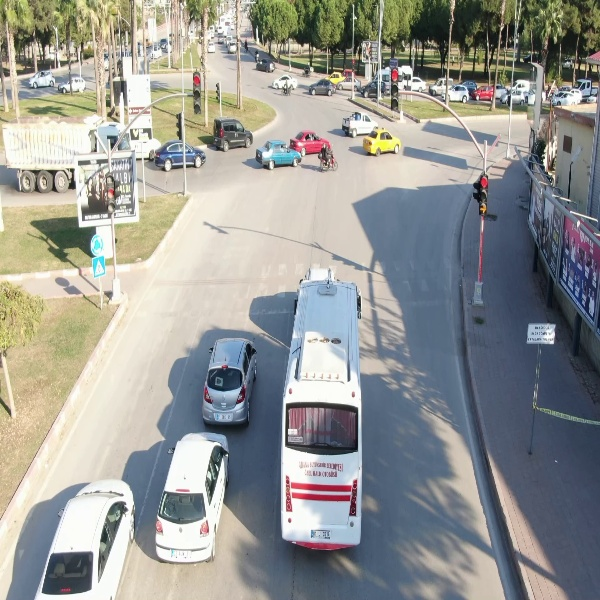car: (151, 430, 233, 566), (200, 335, 260, 430), (151, 139, 205, 173), (253, 139, 305, 173), (212, 116, 254, 152), (362, 125, 403, 159), (27, 67, 55, 91), (308, 78, 339, 97), (438, 83, 469, 101), (254, 58, 275, 75)
